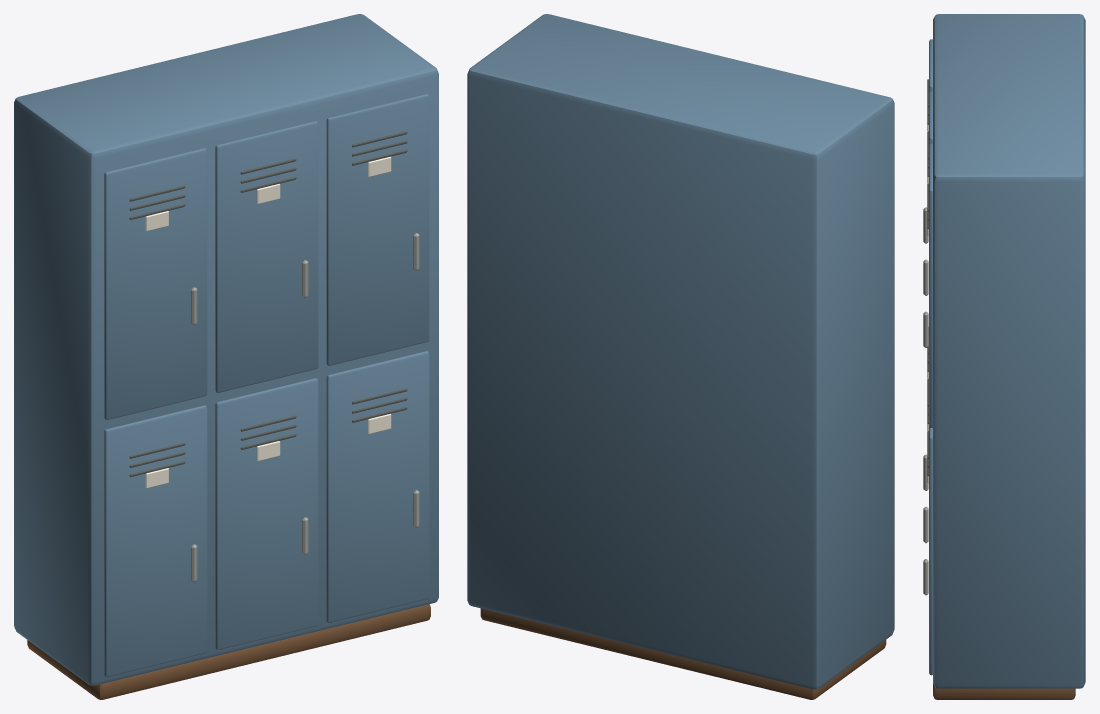
Rendered from locker.glb.
3 renders of one model, left to right at view 1: azimuth 30°, elevation 25°; view 2: azimuth 150°, elevation 25°; view 3: azimuth 270°, elevation 25°, orthographic. The views are drawn at different scales.
Visible parts, largest first — view 1: FURN-locker; view 2: FURN-locker; view 3: FURN-locker.
Boxes of the visible parts, x1,y1,x2,y2 form: FURN-locker: (14,14,438,699); FURN-locker: (467,14,894,699); FURN-locker: (923,14,1085,699).
Bounding box in the file's own units: 1.2 × 1.8 × 0.499.
